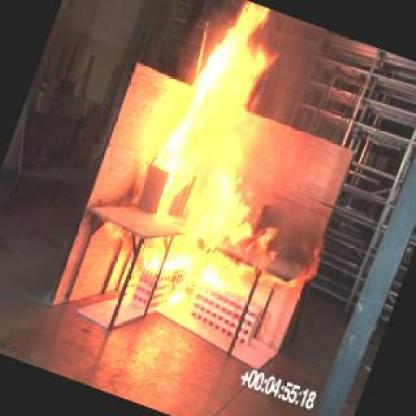Fire: (102, 0, 345, 339)
